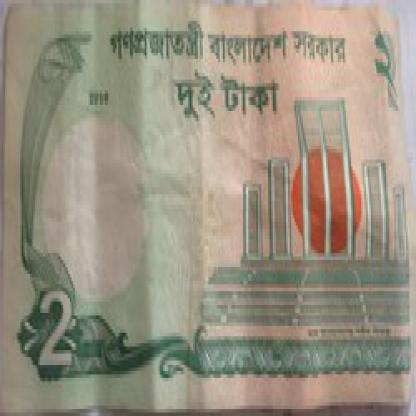two taka: (171, 83, 303, 135), (371, 28, 398, 86)
